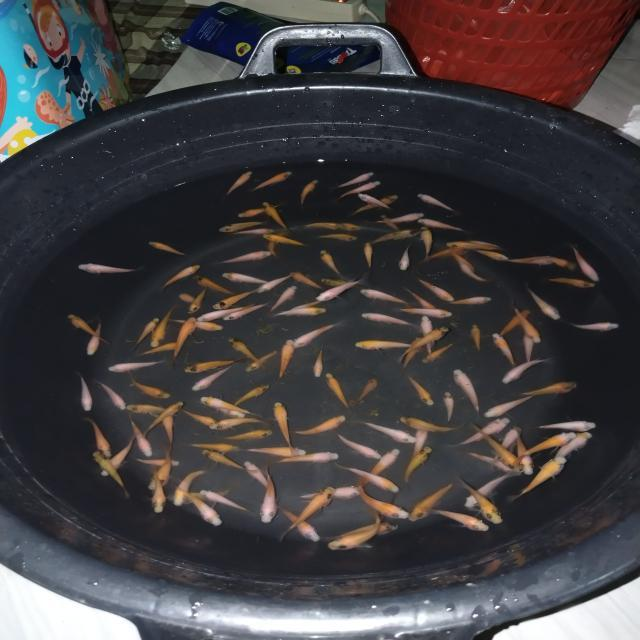nila: (280, 484, 335, 538), (470, 426, 524, 474), (324, 511, 382, 554), (545, 430, 598, 477), (408, 476, 459, 524), (518, 455, 568, 503), (90, 448, 134, 502), (461, 478, 507, 528), (458, 471, 517, 508), (422, 502, 490, 534), (97, 430, 141, 478), (176, 486, 226, 528), (339, 462, 403, 494), (512, 430, 580, 460), (138, 398, 188, 438), (454, 416, 512, 450), (392, 326, 452, 358), (358, 486, 412, 521), (358, 446, 404, 487), (449, 365, 484, 418), (61, 311, 112, 347), (143, 304, 183, 348), (498, 354, 552, 386), (325, 521, 403, 543), (226, 336, 272, 373), (414, 188, 468, 219), (334, 431, 386, 463), (290, 320, 342, 352), (165, 316, 198, 366), (280, 503, 322, 542), (200, 448, 258, 476), (200, 486, 258, 514), (146, 440, 178, 490), (521, 280, 561, 320), (488, 423, 526, 465), (154, 263, 204, 294), (490, 306, 534, 341), (357, 420, 420, 444), (199, 396, 261, 420), (172, 468, 210, 507), (566, 243, 603, 283), (190, 302, 256, 324), (510, 304, 544, 346), (227, 380, 275, 409), (331, 178, 384, 204), (348, 191, 401, 217), (191, 396, 248, 420), (520, 378, 588, 398), (172, 484, 240, 504), (256, 466, 278, 526), (85, 416, 116, 458), (289, 414, 348, 436), (482, 394, 536, 418), (192, 363, 235, 393), (410, 276, 456, 304), (246, 167, 295, 193), (355, 283, 408, 307), (403, 444, 433, 486), (272, 449, 342, 467), (243, 460, 280, 494), (398, 284, 442, 312), (350, 373, 385, 408), (128, 316, 160, 354), (324, 372, 354, 412), (274, 402, 298, 452), (122, 400, 182, 420), (129, 338, 183, 360), (465, 451, 512, 476), (398, 414, 462, 432), (129, 374, 177, 398), (162, 314, 226, 332), (192, 272, 240, 296), (126, 415, 154, 456), (76, 260, 147, 276), (290, 484, 369, 498), (178, 404, 224, 428), (331, 168, 377, 192), (394, 302, 455, 320), (362, 210, 423, 228), (405, 373, 438, 406), (266, 282, 300, 314), (396, 336, 426, 372), (354, 338, 426, 353), (242, 348, 280, 376), (316, 278, 364, 300), (83, 316, 109, 356), (416, 215, 468, 235), (179, 357, 239, 374), (314, 248, 348, 278), (214, 249, 274, 266), (211, 290, 261, 310), (236, 200, 286, 220), (261, 228, 292, 260), (357, 310, 412, 328), (502, 251, 568, 266), (276, 338, 298, 382), (408, 422, 431, 464), (490, 329, 516, 366), (104, 359, 168, 374), (421, 244, 469, 264), (226, 301, 271, 322), (158, 404, 176, 456), (536, 419, 598, 434), (253, 273, 297, 294), (536, 253, 580, 274), (514, 432, 534, 478), (366, 228, 419, 245), (99, 380, 129, 410), (147, 238, 192, 258), (184, 286, 212, 318), (264, 200, 292, 232), (224, 170, 256, 198), (446, 293, 498, 310), (356, 191, 398, 212), (130, 454, 184, 470), (566, 320, 626, 334), (444, 238, 504, 252), (468, 242, 510, 262), (540, 272, 596, 287), (296, 178, 322, 210), (221, 269, 272, 285), (262, 232, 313, 248), (208, 418, 270, 431), (74, 377, 94, 417), (420, 342, 460, 362), (416, 224, 436, 264), (448, 247, 478, 273), (224, 427, 275, 442), (460, 262, 491, 286), (288, 272, 328, 290), (398, 242, 420, 274), (268, 307, 331, 318), (420, 313, 435, 359), (186, 442, 243, 454), (152, 468, 166, 516), (214, 220, 264, 233), (376, 211, 404, 234), (246, 446, 310, 456), (467, 321, 485, 356), (362, 240, 378, 278), (312, 344, 328, 381), (441, 388, 456, 426), (522, 328, 536, 368), (232, 227, 280, 238), (287, 298, 324, 312), (294, 220, 344, 230), (467, 237, 505, 250), (313, 232, 362, 242), (320, 276, 360, 288), (328, 220, 362, 233), (179, 293, 203, 309)
